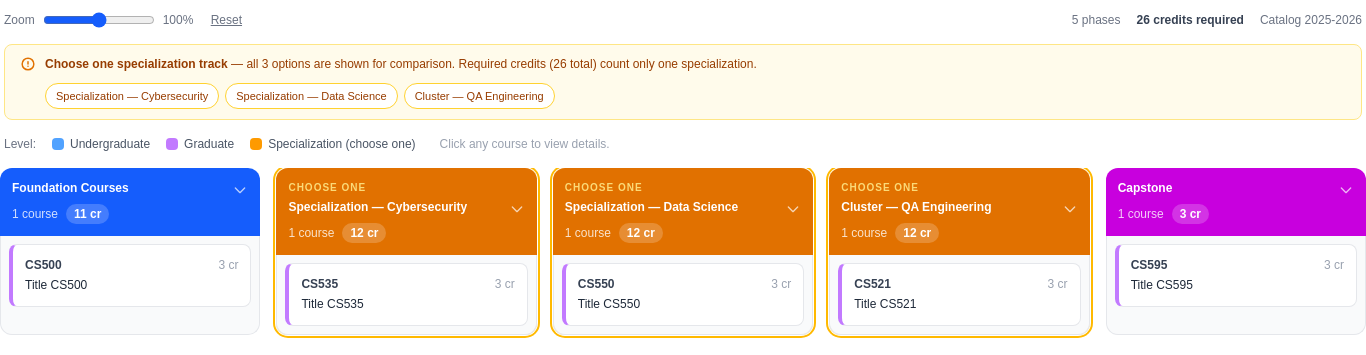
RoadmapCanvas specialization tracks › brings them all back when the same track is deselected
Click the button "Specialization — Data Science" at x=311, y=96, box top-left (225, 82), bottom-right (398, 109)
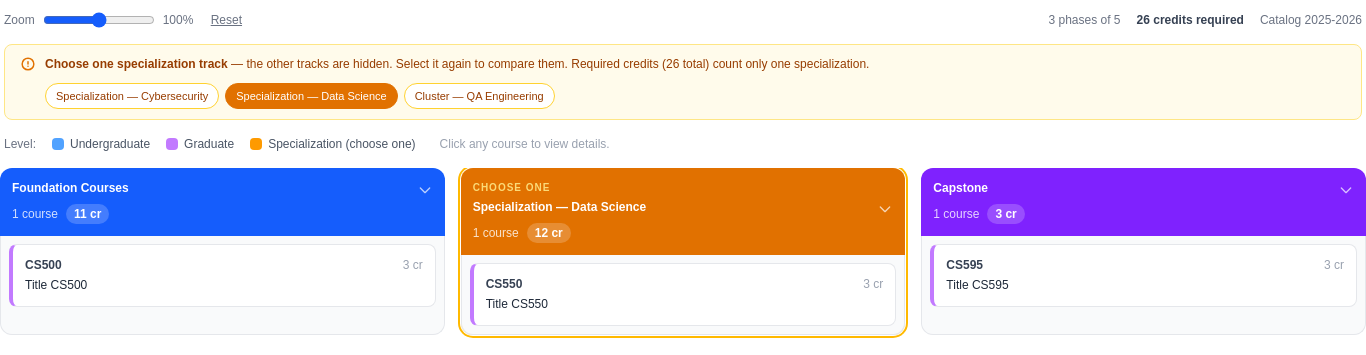
Click the button "Specialization — Data Science" at x=311, y=96, box top-left (225, 82), bottom-right (398, 109)
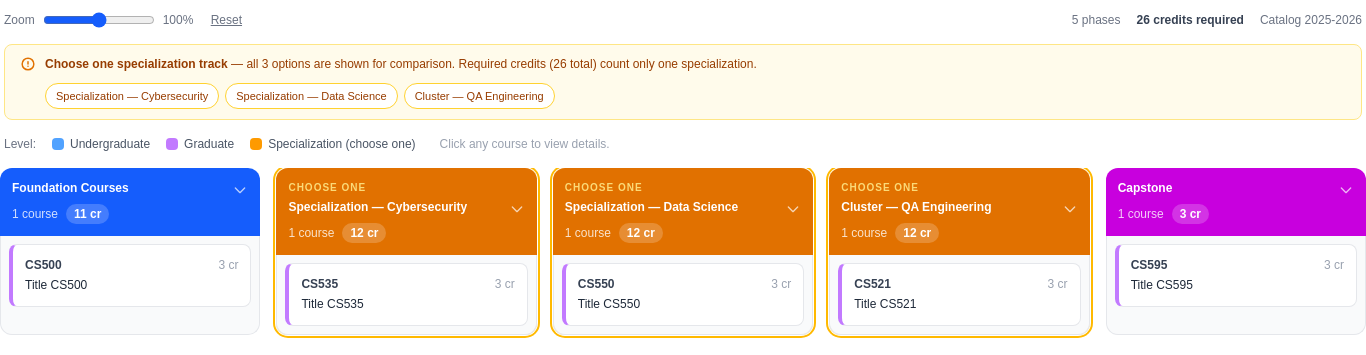
Now the text "CS535" is shown, box top-left (301, 276), bottom-right (338, 292)
Now the text "CS521" is shown, box top-left (854, 276), bottom-right (891, 292)
